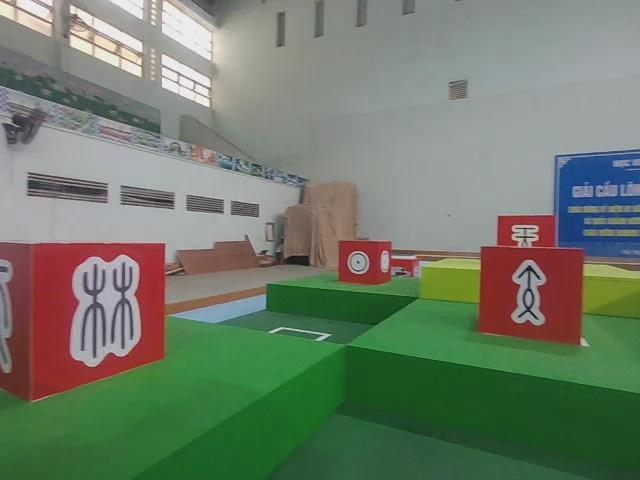R2 Fake: (0, 238, 170, 406)
R2 Real: (476, 242, 585, 353), (336, 235, 394, 291)
